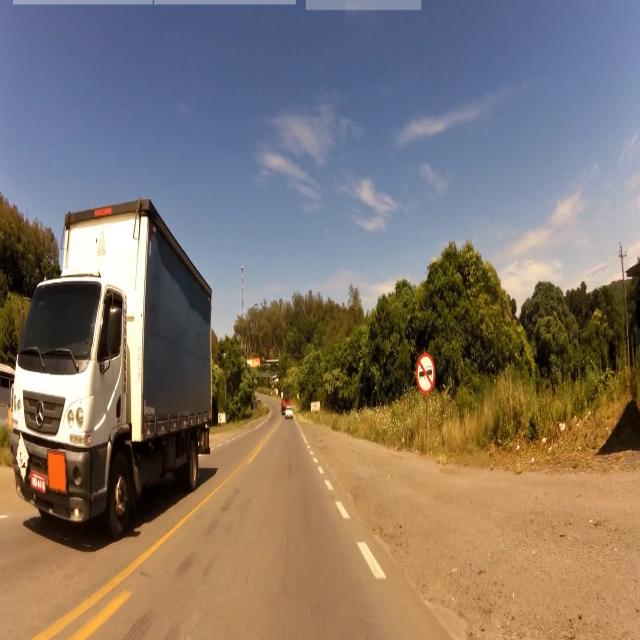R-7: (417, 351, 438, 397)
